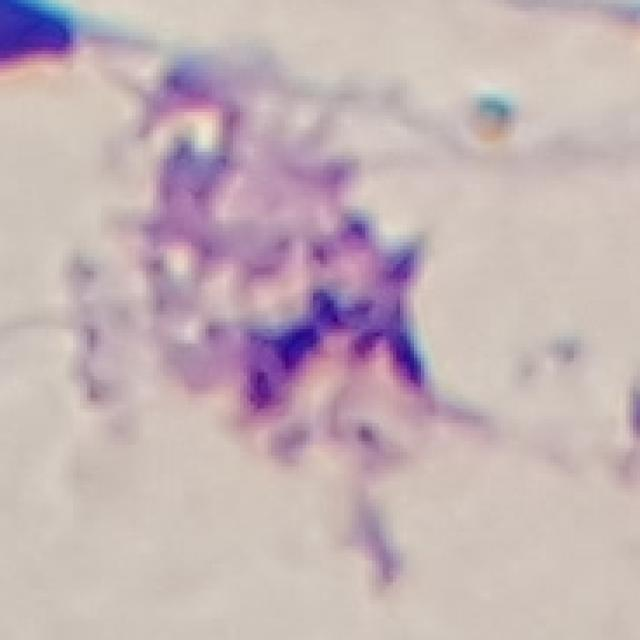non-sperm: (119, 91, 477, 520)
